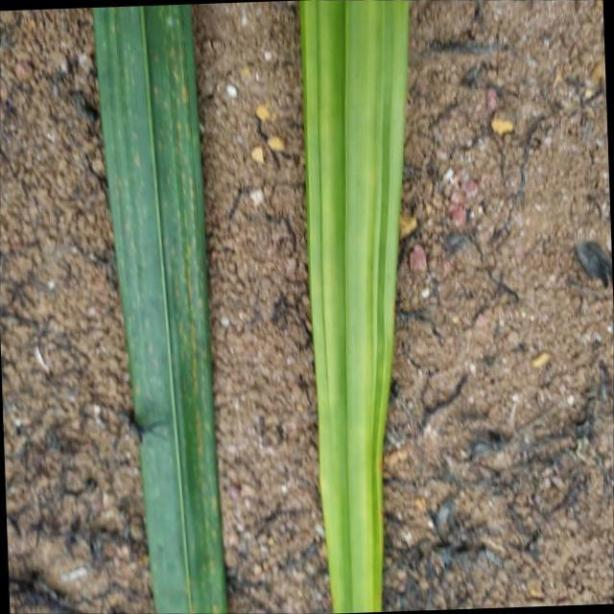nitrogen: (301, 0, 409, 614)
